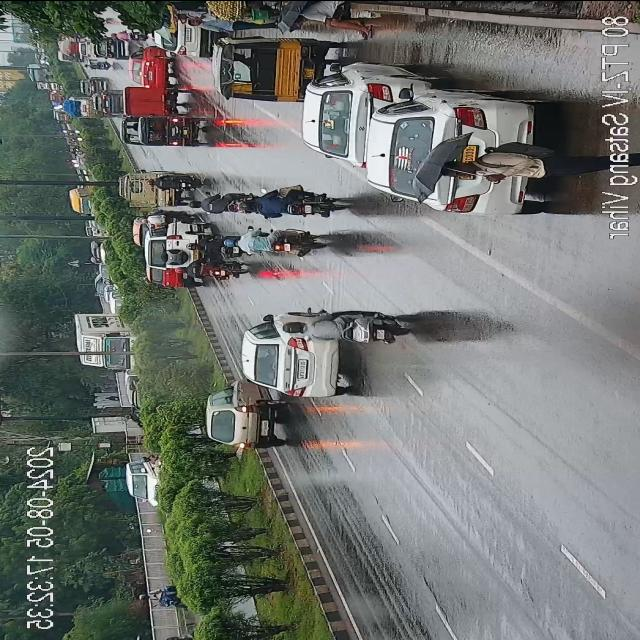2-wheelers: (298, 311, 406, 351), (242, 186, 342, 220), (234, 225, 320, 261), (184, 258, 244, 289), (152, 174, 201, 200), (196, 192, 242, 218), (136, 584, 186, 607), (186, 238, 242, 256), (134, 208, 186, 222), (110, 31, 144, 40), (83, 60, 110, 70), (140, 454, 162, 466)
auto: (216, 40, 314, 105), (147, 114, 206, 150), (127, 85, 179, 114), (120, 116, 144, 144)
bus: (29, 63, 58, 83)
car: (372, 82, 556, 214), (304, 66, 402, 172), (243, 313, 340, 405), (210, 385, 286, 461), (144, 221, 212, 265), (121, 452, 165, 502), (156, 16, 208, 56), (131, 51, 169, 85), (145, 265, 197, 287), (96, 38, 128, 61), (94, 89, 124, 113), (82, 76, 108, 94), (130, 222, 145, 248)
pedestrian: (451, 145, 594, 187), (294, 0, 372, 38), (187, 14, 280, 32)
truck: (75, 312, 136, 368), (120, 170, 180, 204), (70, 188, 100, 215), (66, 95, 98, 117)
